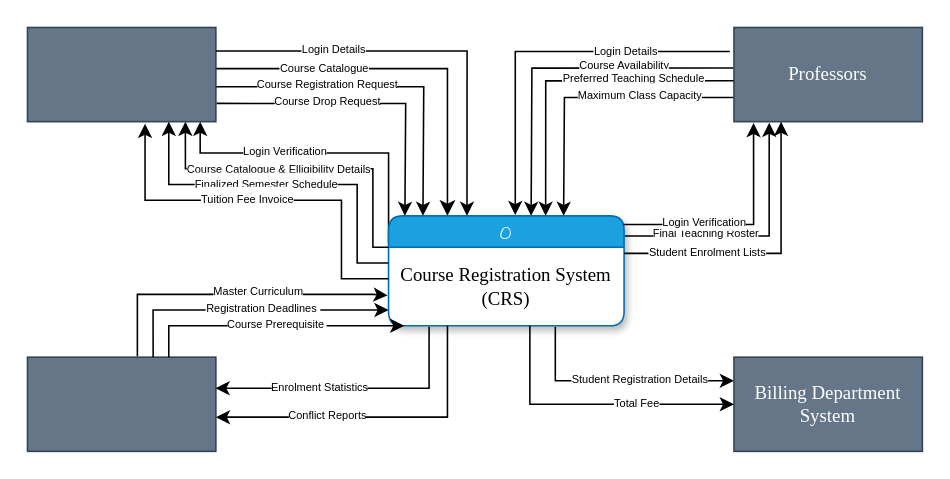
Image size: 950x479. Some labels were removed from this diagram. The shapes that lost their labels are listed below. From the top down, each one's centre as x and y in pixels, then its label:
At point (121, 74): "Students".
At point (121, 403): "Academic Registry Office".
